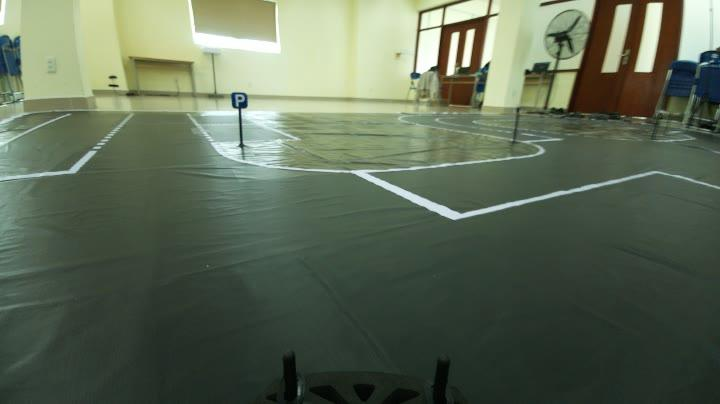parking: (229, 89, 252, 110)
